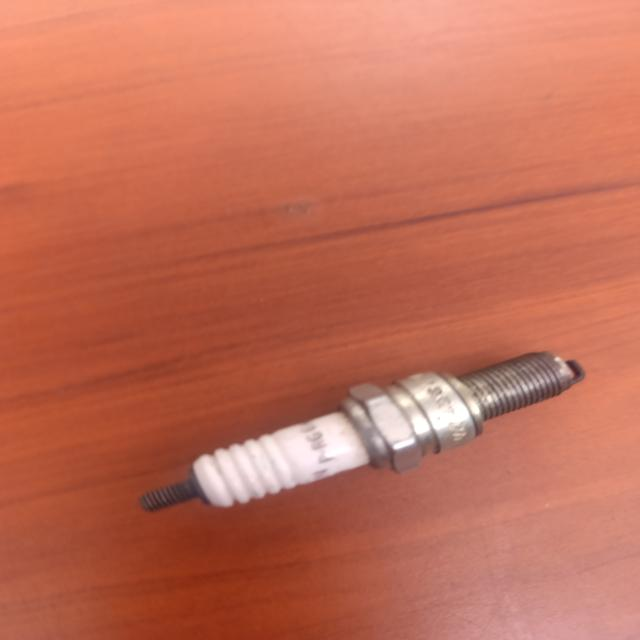Mause: (140, 352, 585, 512)
